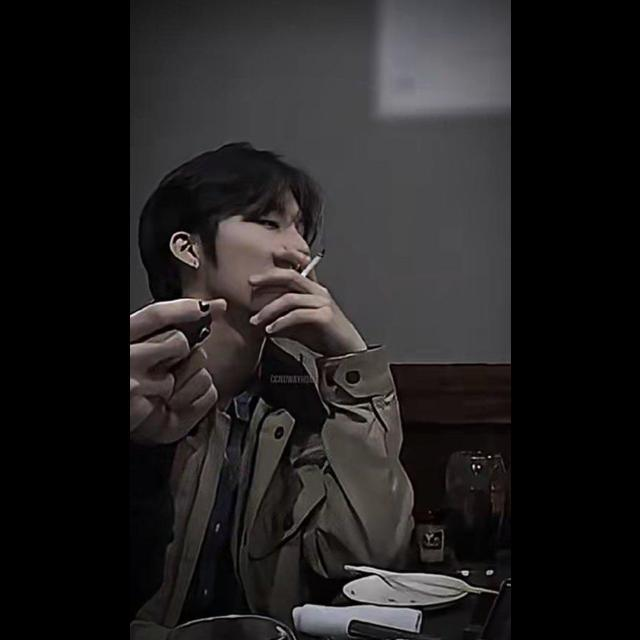rokok: (298, 247, 326, 276)
